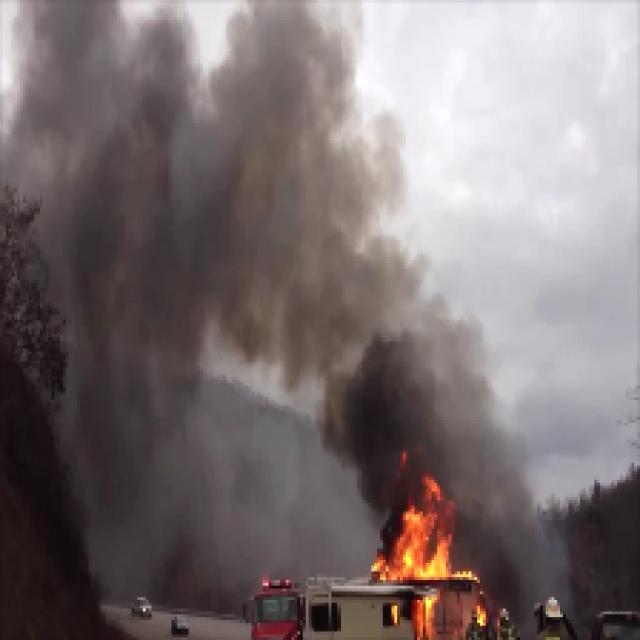Smoke: (56, 18, 338, 330), (360, 304, 496, 468)
